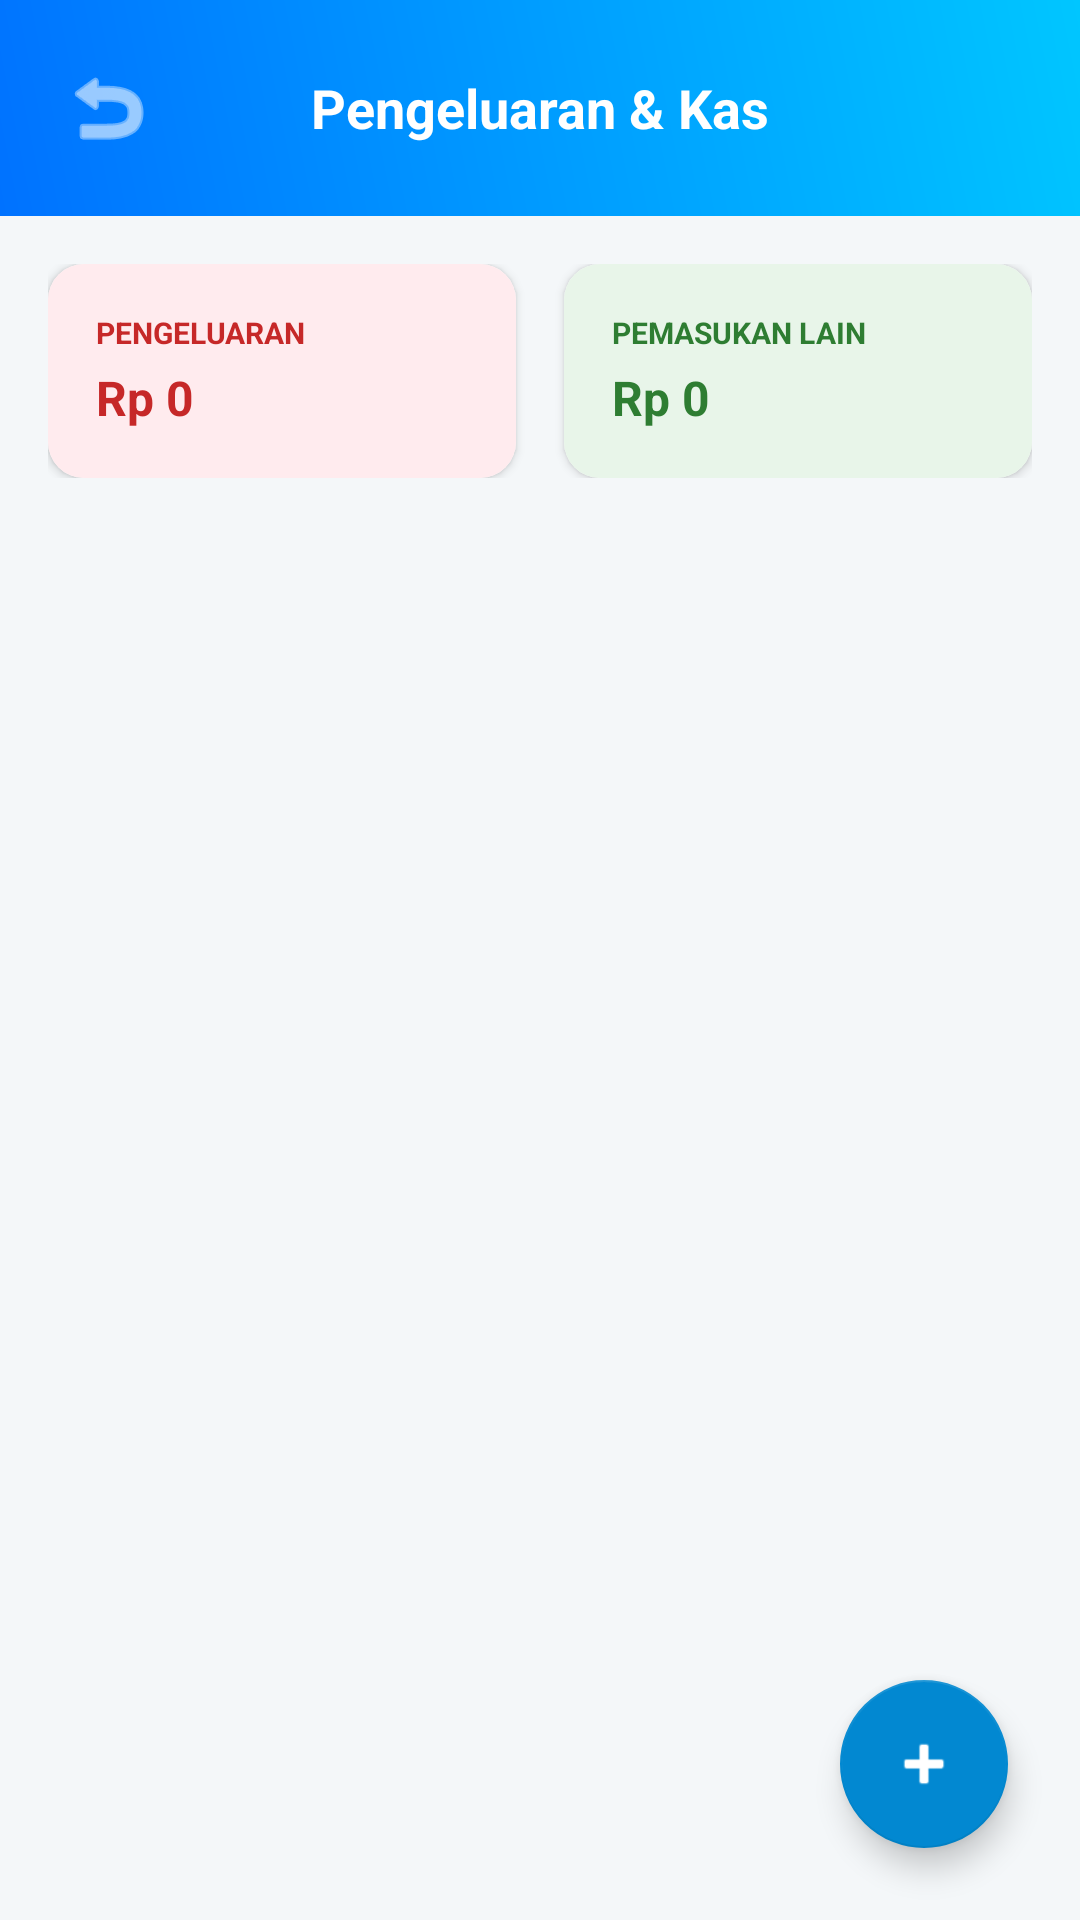

Named icons in this screenshot (1080px x 1920px) and their bounding boxes, (x1, y1, x2, y2):
add: (840, 1680, 1008, 1848)
revert: (75, 77, 144, 140)
